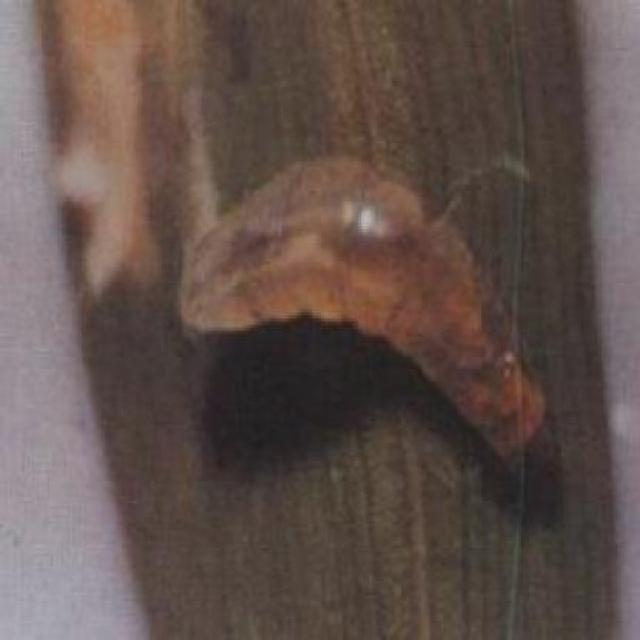whorl-maggot: (180, 144, 549, 478)
